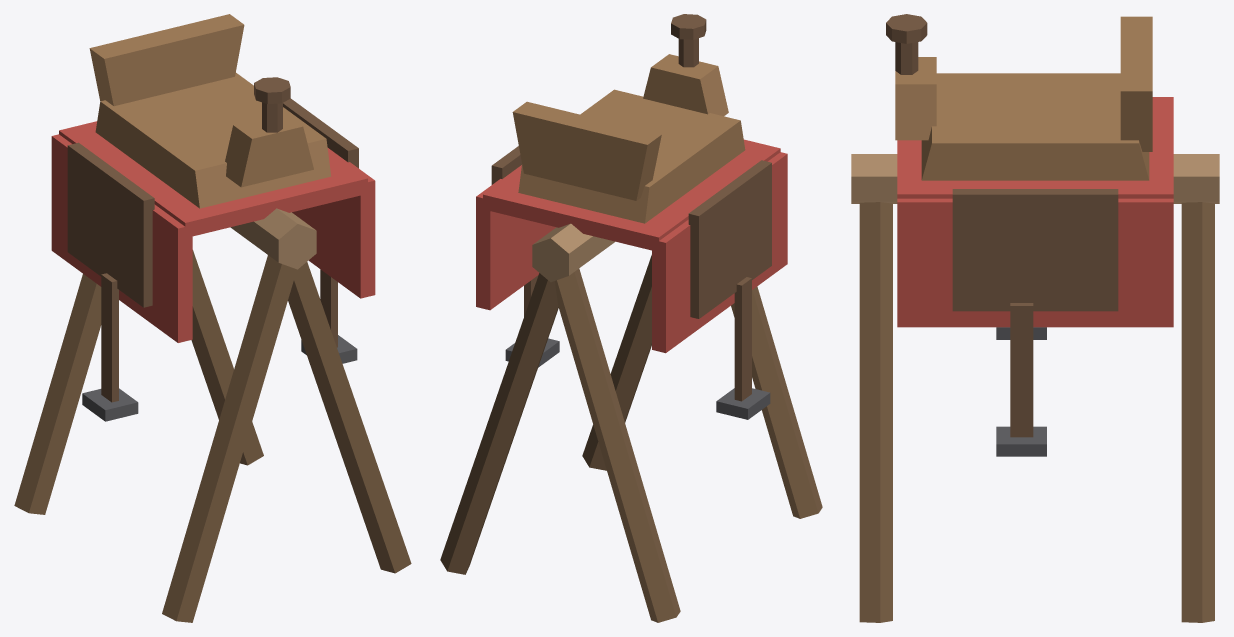
The model's file is SM_Saddle_Rack.glb.
3 renders of one model, left to right at view 1: azimuth 30°, elevation 25°; view 2: azimuth 150°, elevation 25°; view 3: azimuth 270°, elevation 25°, orthographic. The views are drawn at different scales.
Visible parts, largest first — view 1: SM_Saddle_Rack; view 2: SM_Saddle_Rack; view 3: SM_Saddle_Rack.
Boxes of the visible parts, box(x1,y1,x2,y2) form: SM_Saddle_Rack: box(14, 14, 411, 622); SM_Saddle_Rack: box(440, 14, 822, 622); SM_Saddle_Rack: box(851, 14, 1219, 622).
Bounding box in the file's own units: 0.69 × 1.31 × 0.8.
